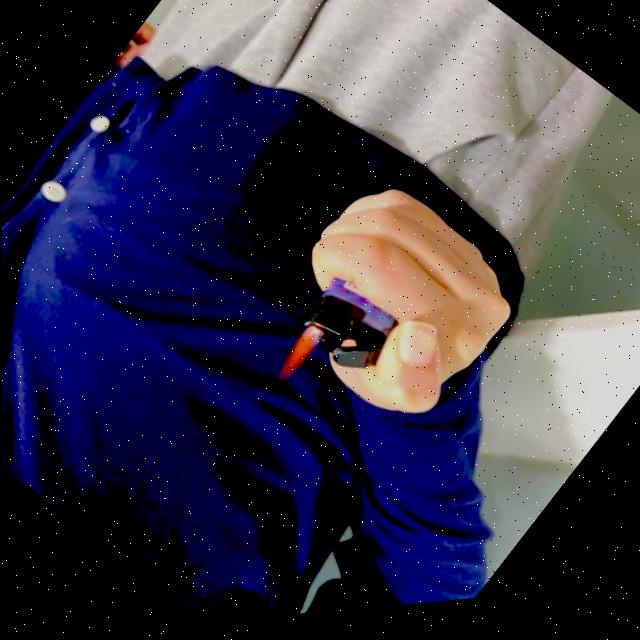Fire: (266, 326, 325, 396)
